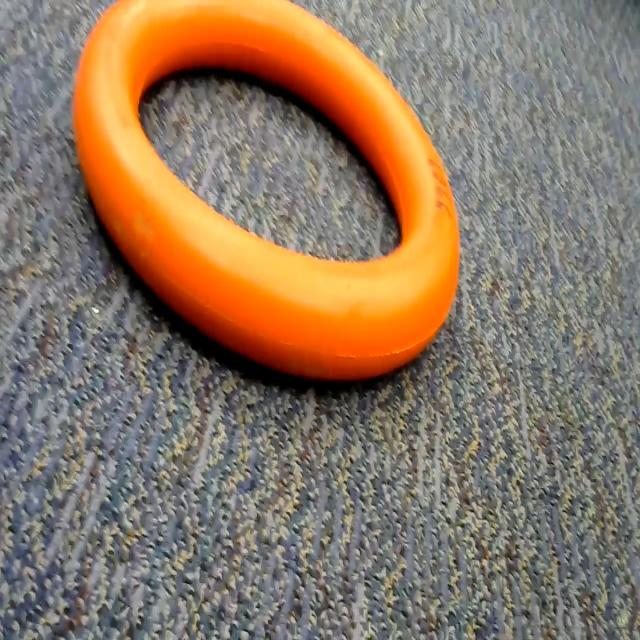note: (71, 0, 471, 385)
